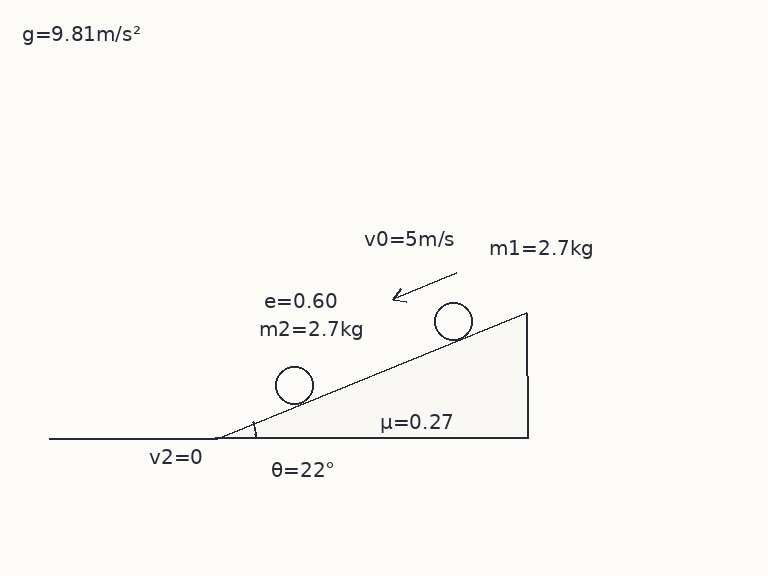ball: (432, 300, 474, 342), (273, 364, 315, 406)
ramp: (214, 310, 528, 439)
